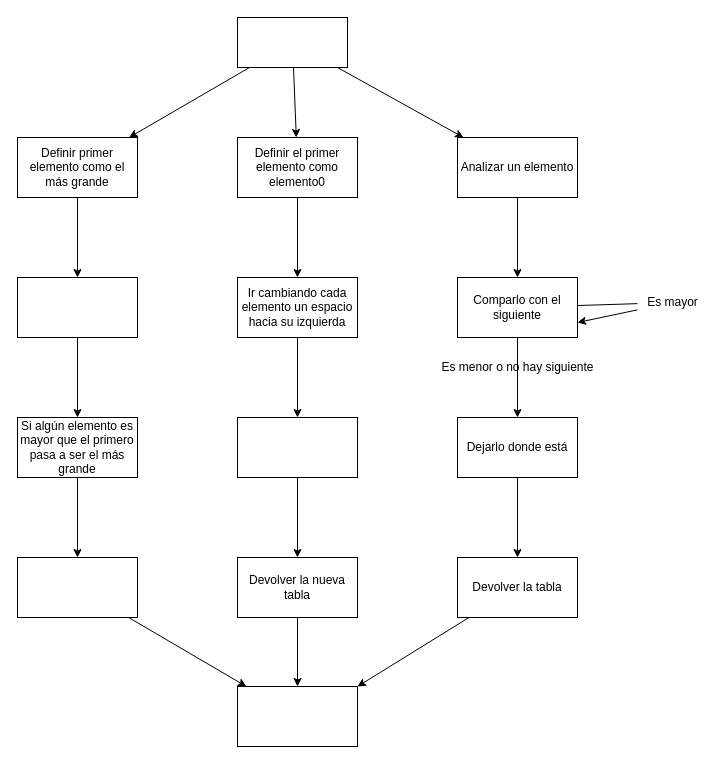
Image size: 725x764. Some labels were removed from this diagram. Each missing label, with the box of its shape:
Analizar todos los elementos de la tabla: (16, 276, 138, 338)
Devolver ese elemento: (16, 556, 138, 618)
El primer elemento lo mueves al final de la tabla: (236, 416, 358, 478)
Fin: (236, 686, 358, 746)
Tabla: (236, 16, 348, 68)
